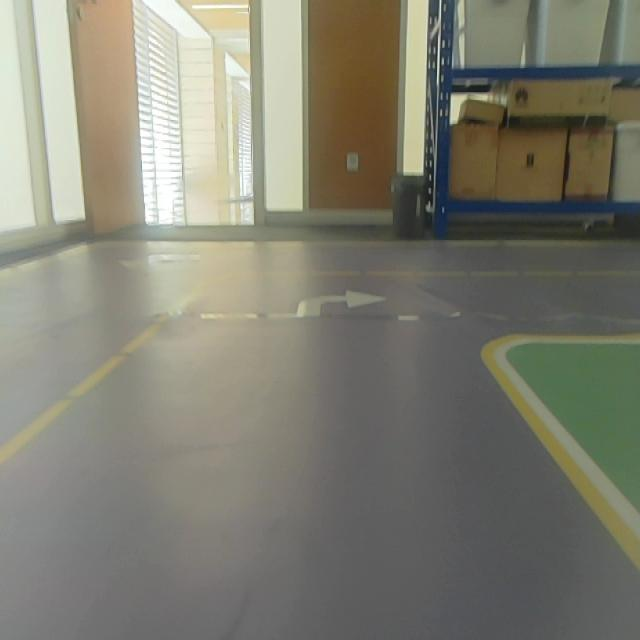left_lane: (0, 288, 200, 463)
right_lane: (485, 351, 640, 577)
